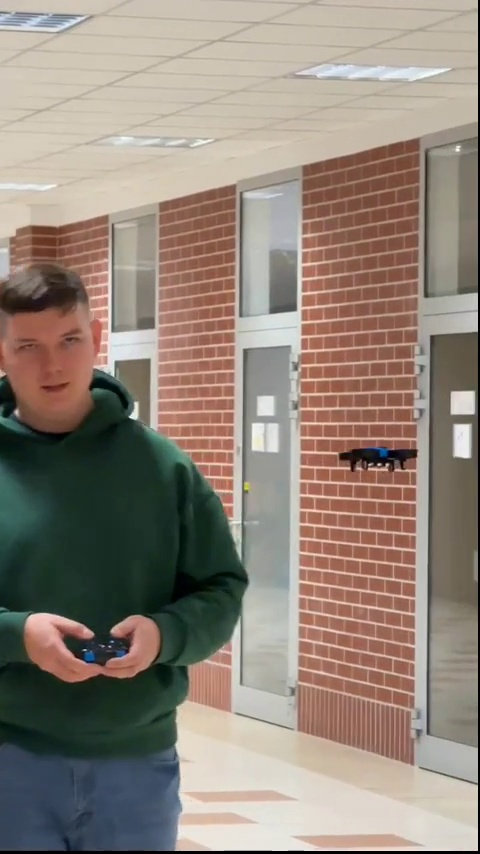drone: (340, 443, 419, 473)
no vest: (0, 259, 248, 843)
